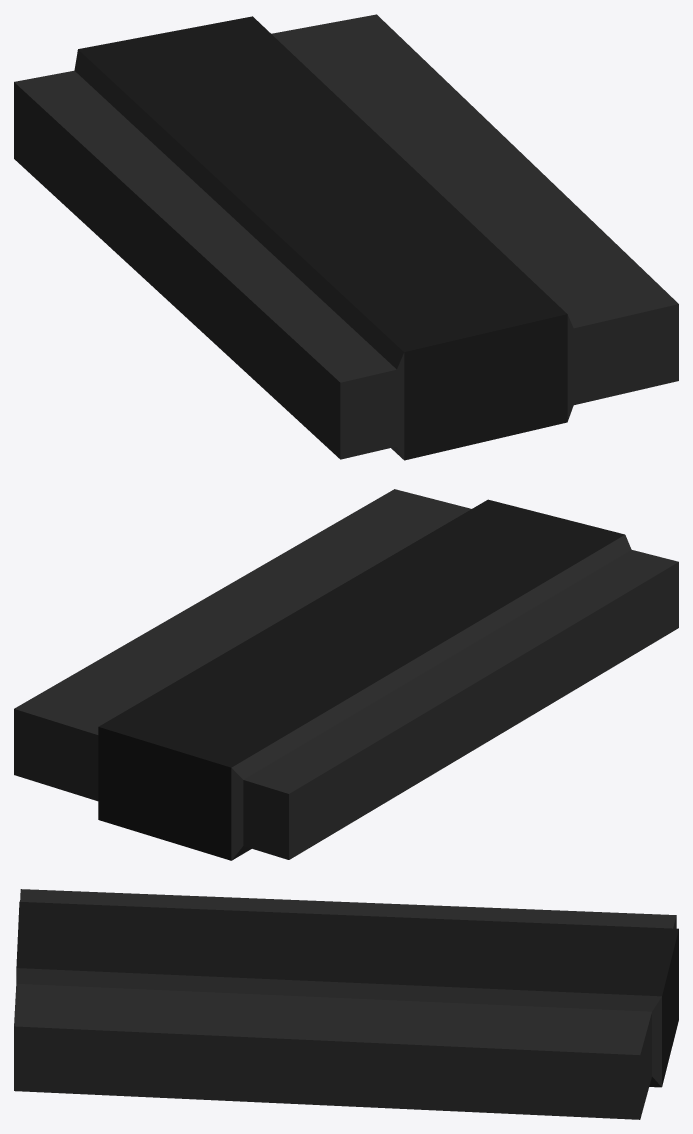
Rendered from M14Mag.glb.
3 views of the same model, one above another, from view 1: azimuth 30°, elevation 25°; view 2: azimuth 150°, elevation 25°; view 3: azimuth 270°, elevation 25° (orthographic). The views are drawn at different scales.
Parts seen in each view (by area): view 1: M14Mag; view 2: M14Mag; view 3: M14Mag.
Boxes of the visible parts, bbox=[...] form: M14Mag: bbox=[14, 14, 678, 460]; M14Mag: bbox=[14, 489, 678, 860]; M14Mag: bbox=[14, 889, 678, 1119].
Size of the model in its own units: 0.3662 by 0.0937 by 0.6196.
1 material, 1 textured.
